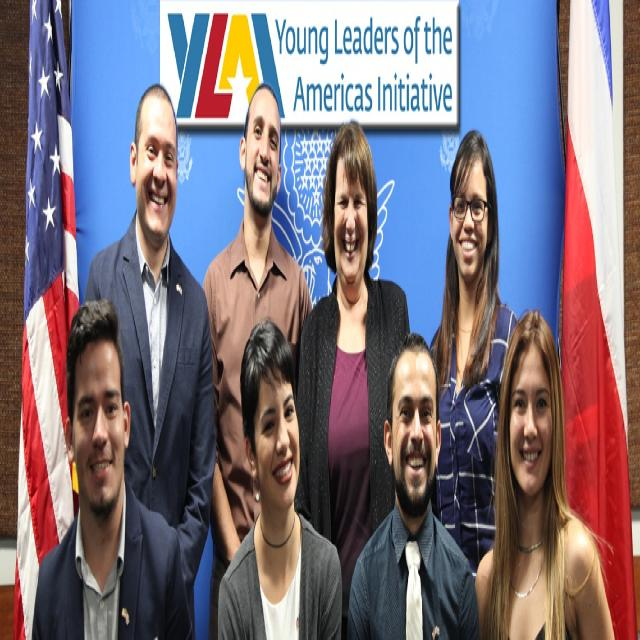body: (83, 77, 217, 640), (292, 112, 418, 639), (201, 78, 314, 640), (29, 298, 198, 639), (474, 308, 622, 638), (427, 127, 521, 588), (346, 330, 481, 640), (216, 317, 344, 640)
